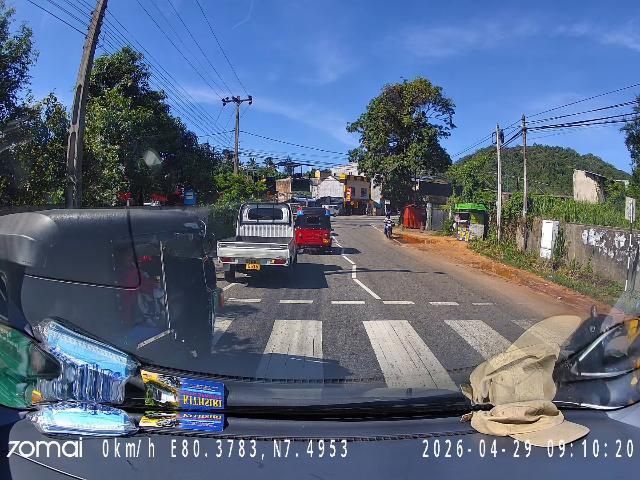illegal overtaking: (1, 206, 227, 336)
number plate: (246, 257, 261, 270)
